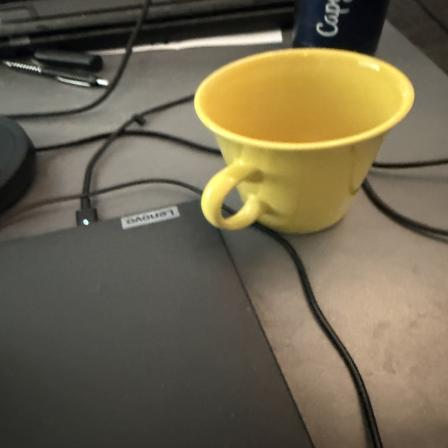yellow_cup: (190, 36, 425, 238)
